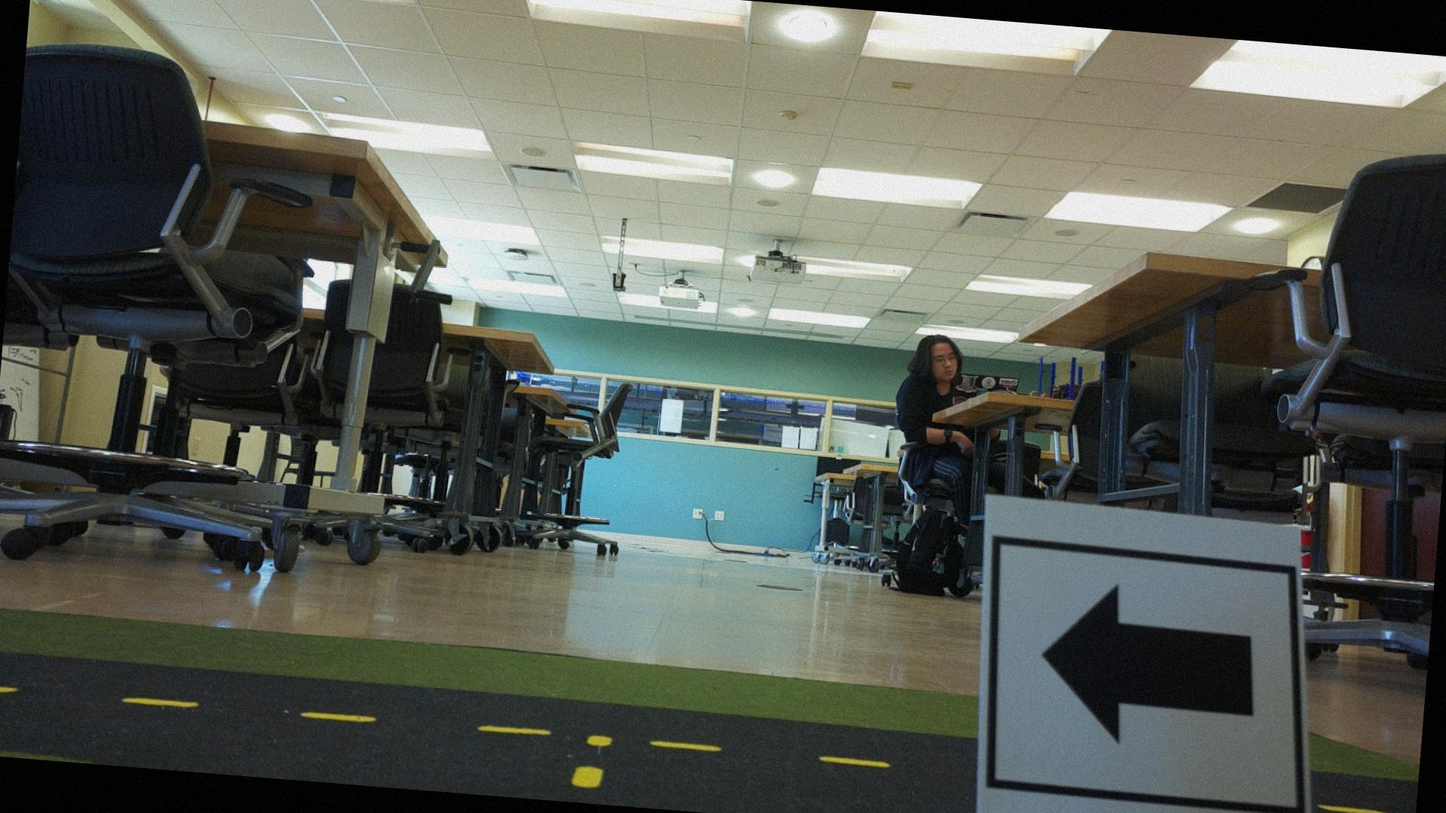turnright: (984, 549, 1295, 812)
yellowline: (0, 683, 892, 770), (568, 732, 613, 793)
